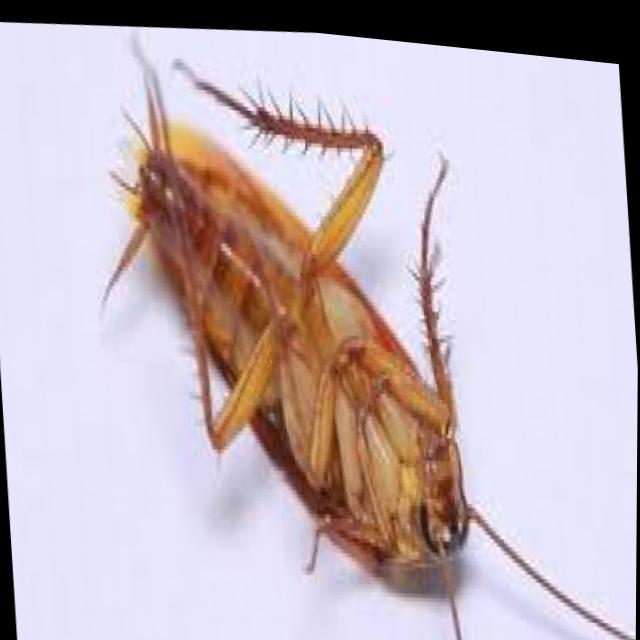Cockroach: (76, 7, 640, 640)
